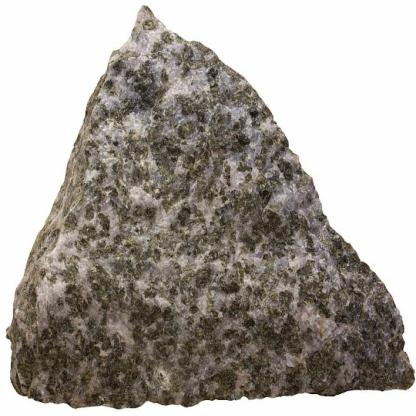Igneous_Diorite: (4, 2, 416, 415)
